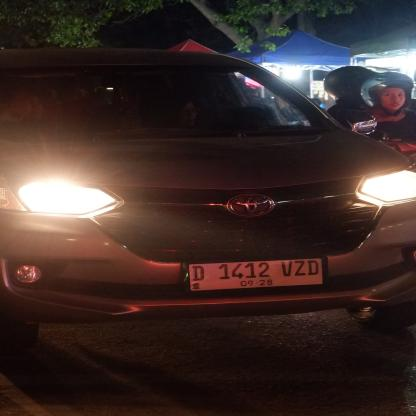Plat-Nomor: (181, 255, 334, 294)
